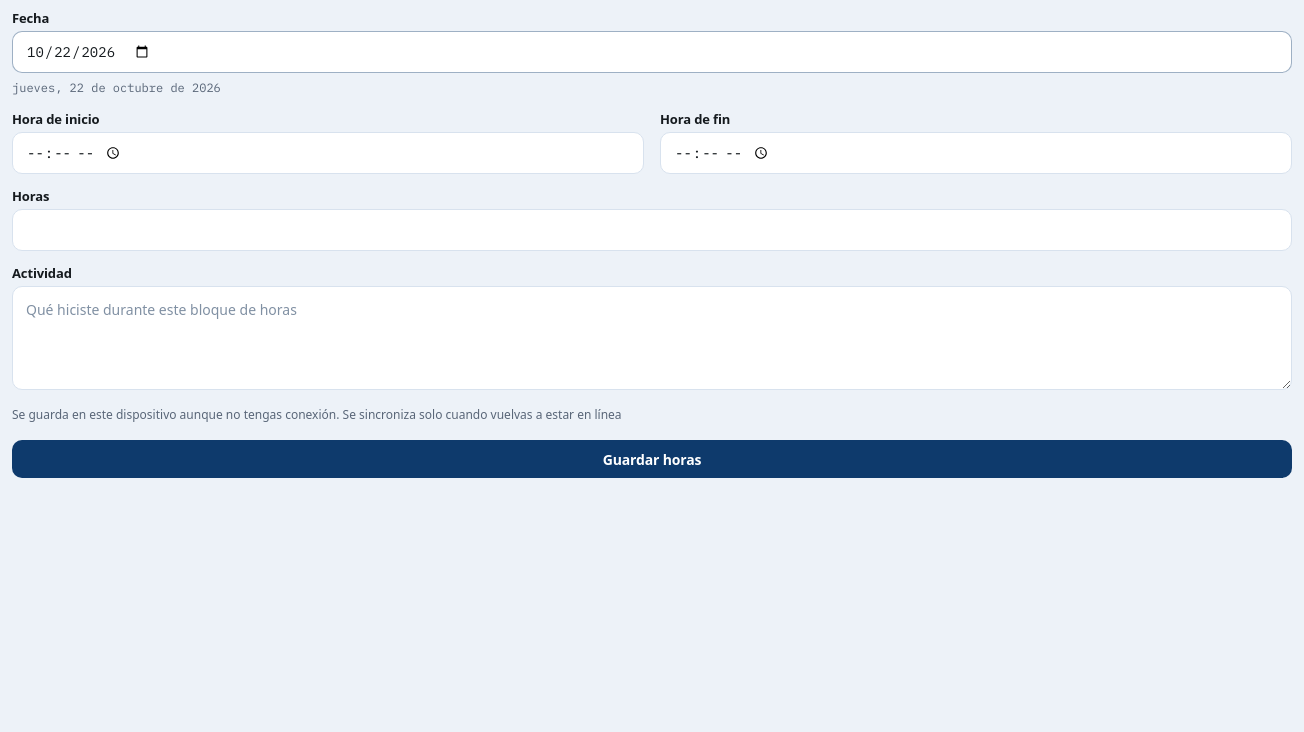
Test: HourLogForm — componente visual e integración con guardado local › muestra mensaje de error cuando falla la transacción de guardado
Type "08:00" into the time field labelled "Hora de inicio" at point(328, 153), box [12,132,644,174]
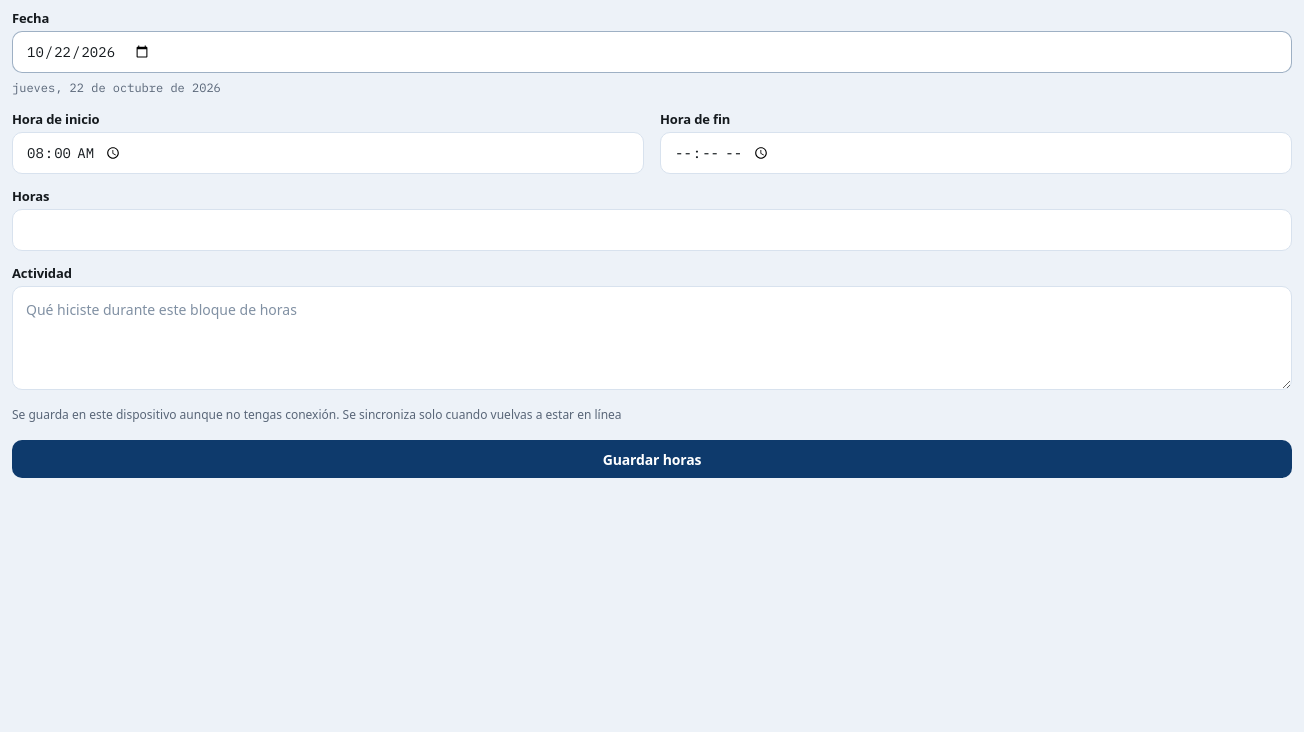
Type "12:00" into the time field labelled "Hora de fin" at point(976, 153), box [660,132,1292,174]
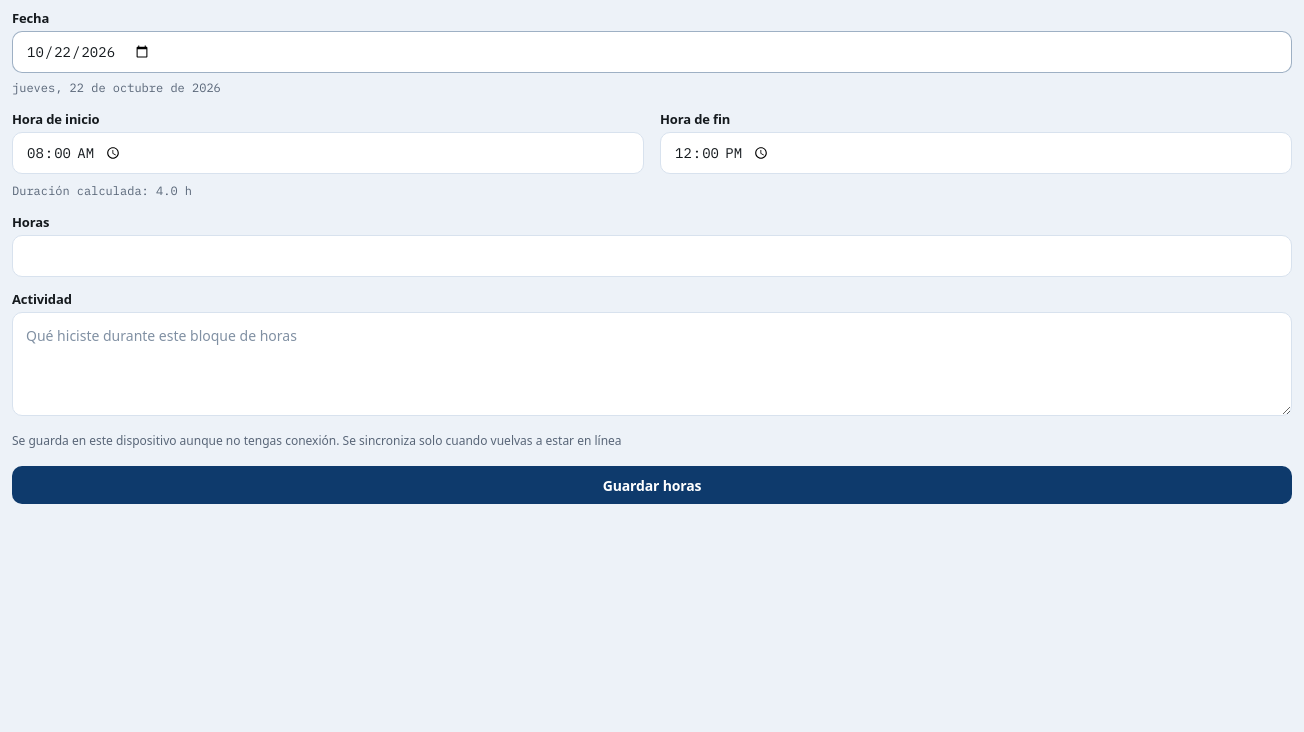
Type "4" into the number field labelled "Horas" at point(652, 256), box [12,235,1292,277]
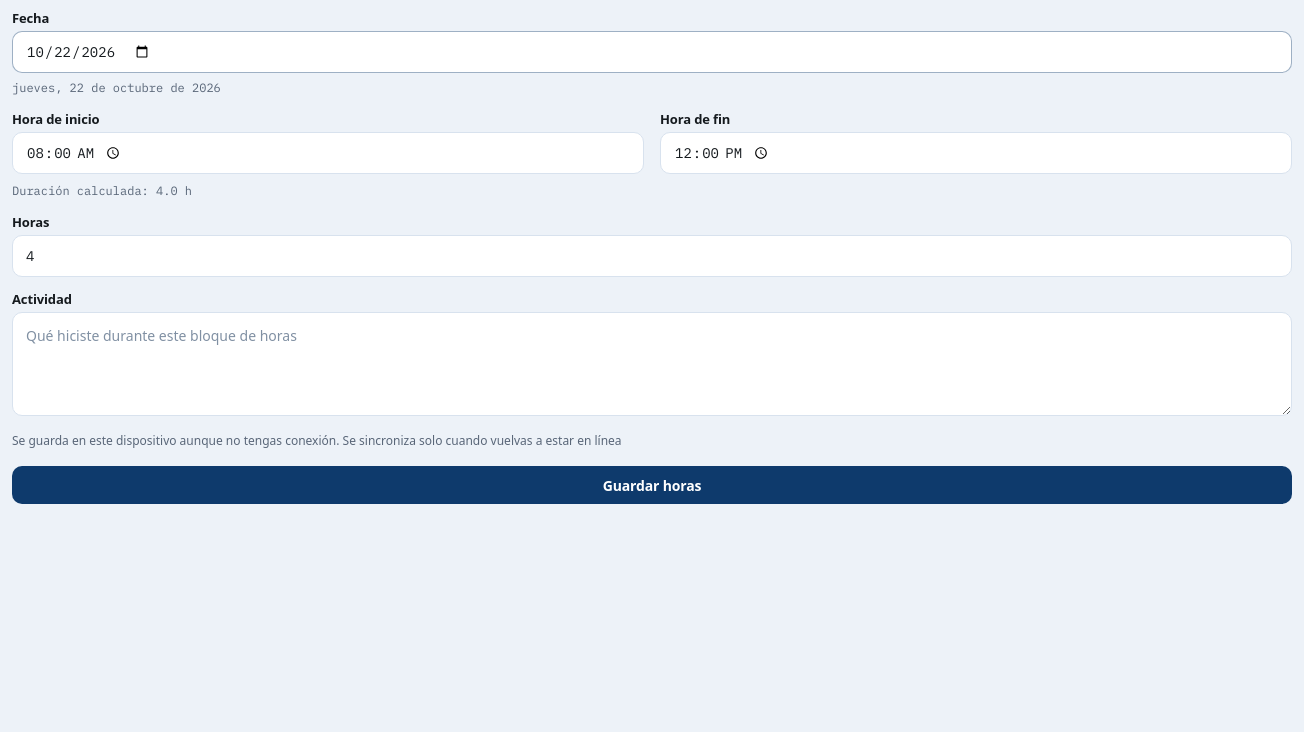
Type "Tarea" into the text box labelled "Actividad" at point(652, 364), box [12,312,1292,416]
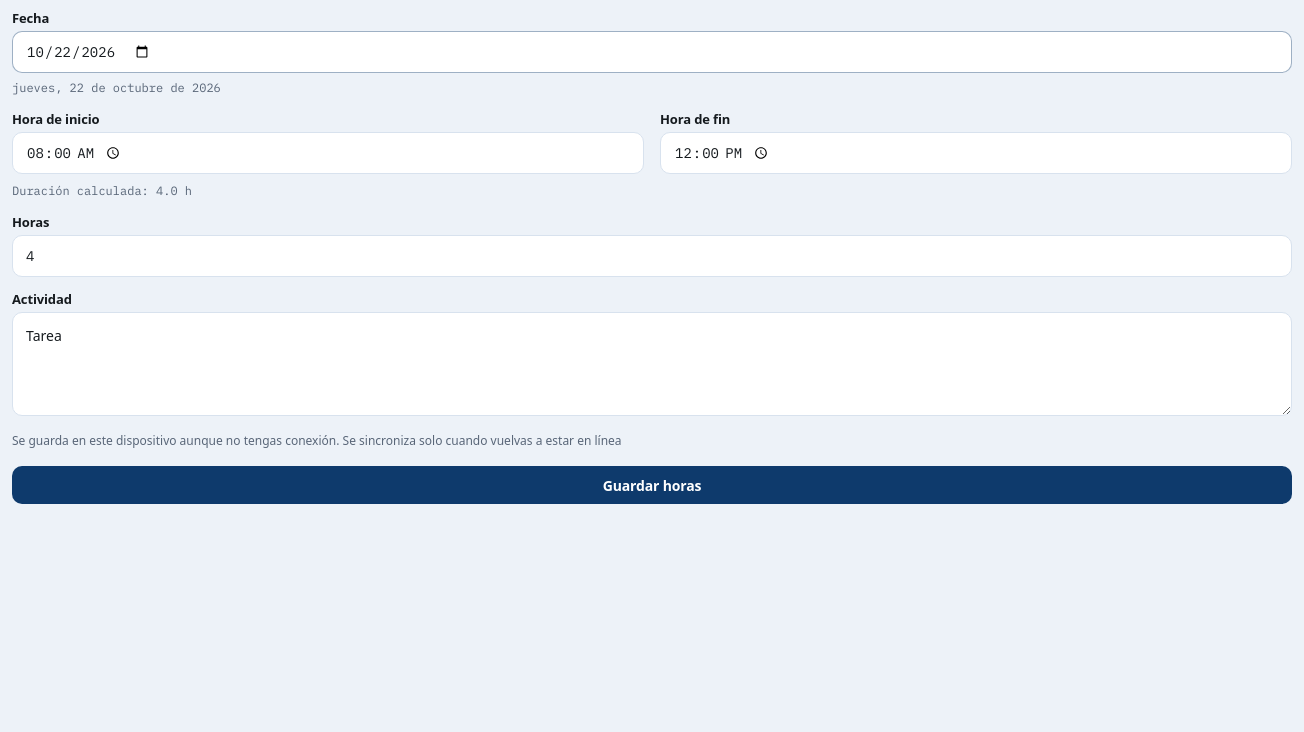
Click the button "Guardar horas" at point(652, 485), box [12,466,1292,504]
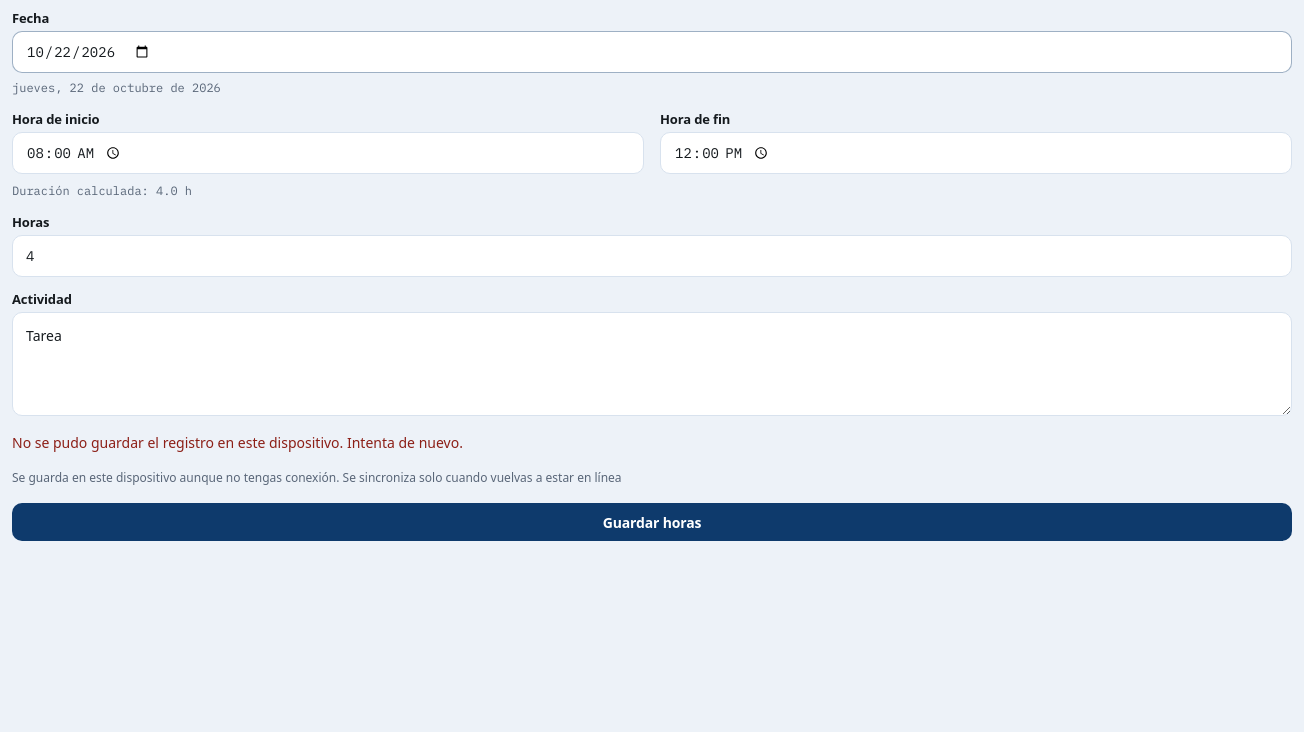
Expected: the text "No se pudo guardar el registro en este dispositivo. Intenta de nuevo." is shown, [12,433,463,452]
